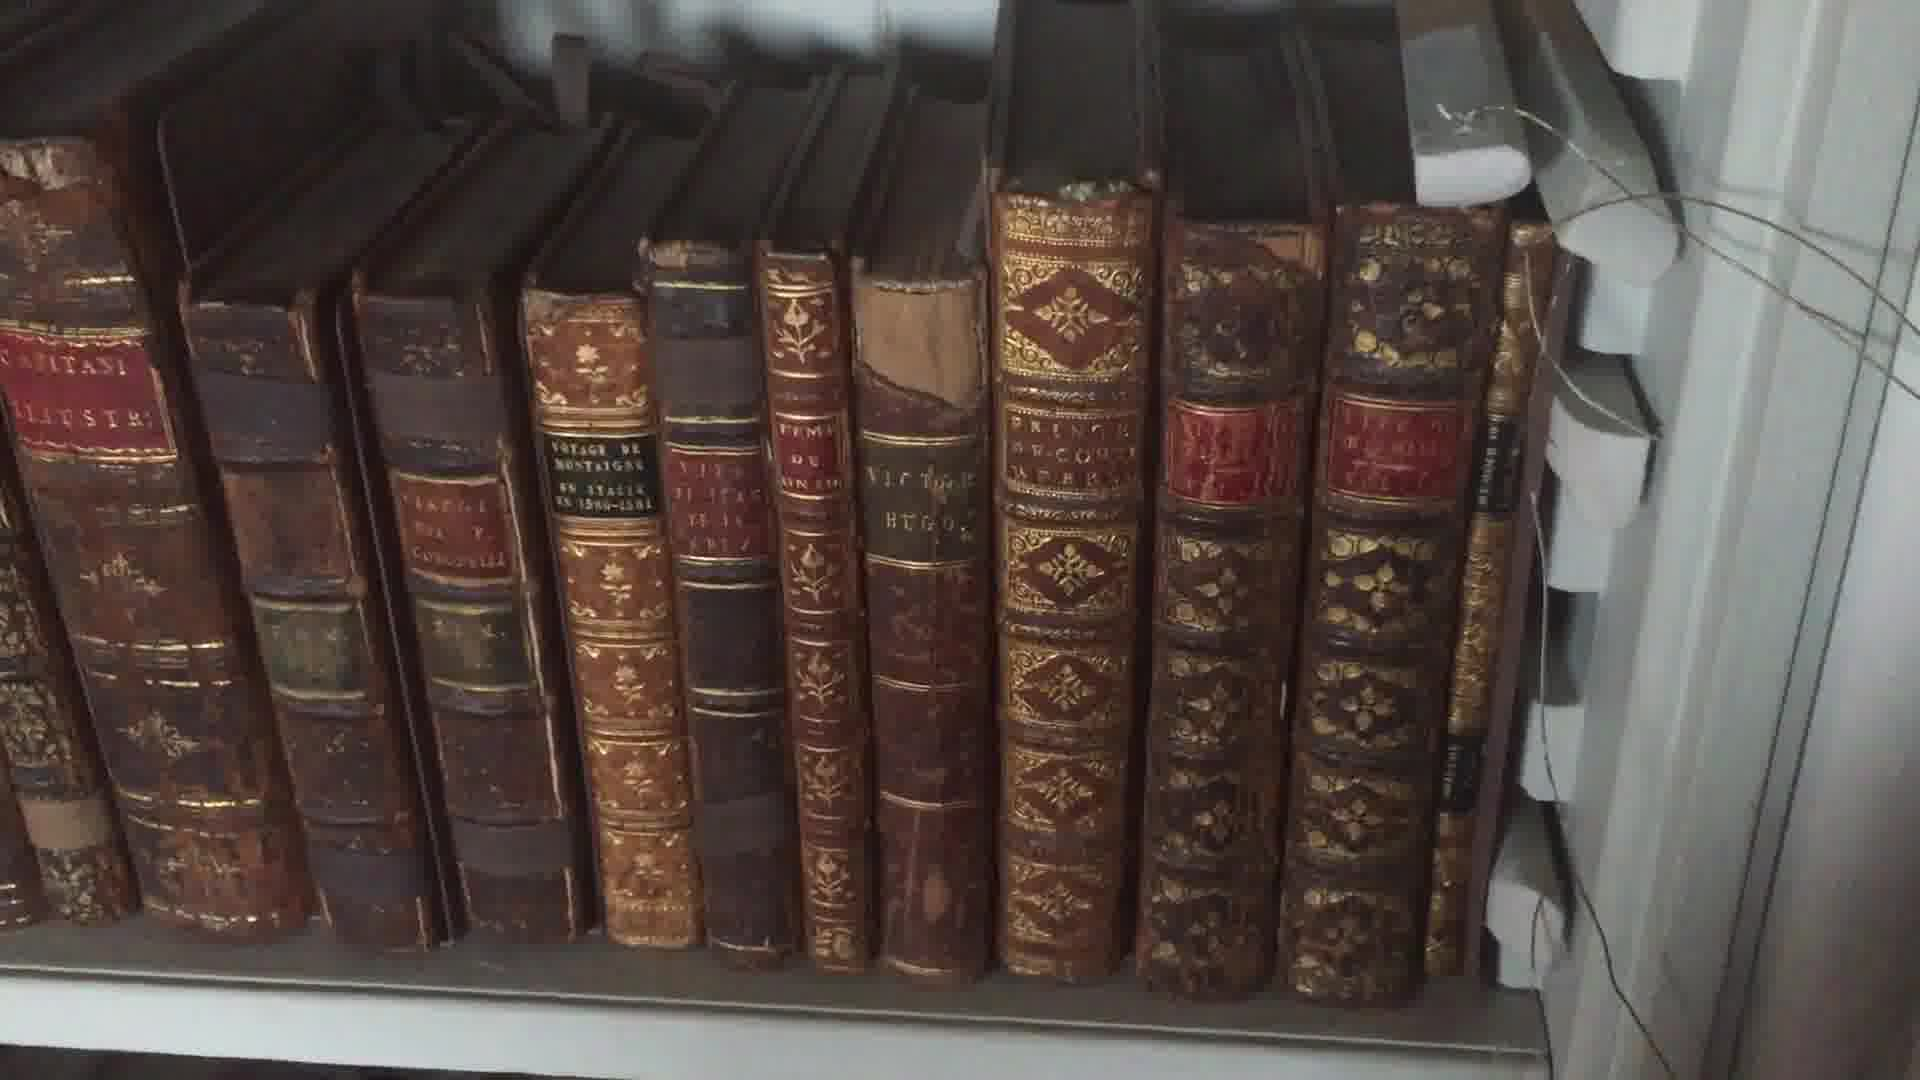Aa6-38: (9, 131, 282, 978)
Aa6-39_40: (167, 239, 580, 953)
Aa6-41: (524, 248, 713, 973)
Aa6-42: (633, 208, 787, 980)
Aa6-43: (764, 239, 877, 961)
Aa6-44: (860, 241, 1025, 1000)
Aa6-45: (982, 175, 1133, 1007)
Aa6-46-47: (1109, 195, 1482, 1004)
Aa6-48: (1431, 202, 1553, 1002)
